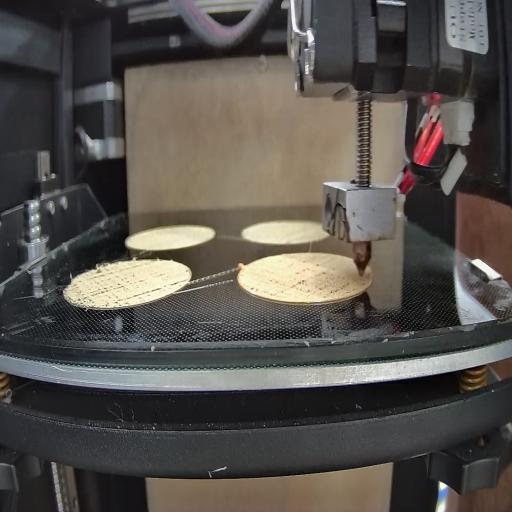under_extrusion: (74, 266, 164, 306), (250, 271, 351, 302), (168, 273, 187, 290)
